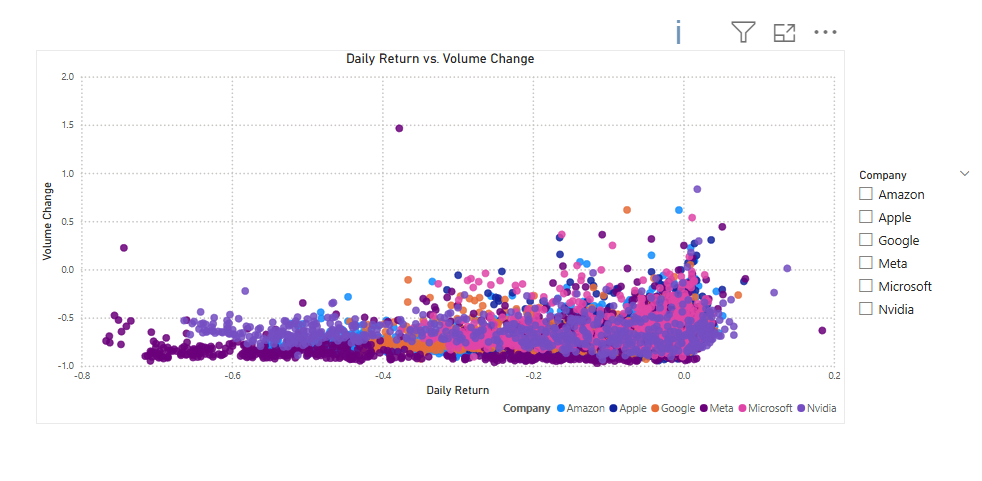

What the dashboard file says about the page in this screenshot:
{"tool":"powerbi","page":{"name":"DR vs VC","canvas":[1280,720],"ordinal":5},"visuals":[{"type":"scatterChart","title":"Daily Return vs. Volume Change","fields":{"X":["CompanyDailyReturnVolumeChange.DailyReturn"],"Y":["CompanyDailyReturnVolumeChange.VolumeChange"],"Series":["CompanyDailyReturnVolumeChange.Company"]},"box":[79.4,109.6,1018.6,470.6],"z":0},{"type":"slicer","fields":{"Values":["CompanyDailyReturnVolumeChange.Company"]},"box":[1103.6,253.2,164.4,209.8],"z":1000}]}

Visuals, with their boxes on the page's 1280x720 design canvas (x1, y1, x2, y2). These are canvas units, not pixel positions in the 982x481 screenshot, which may show the page scaled, cropped or inside an application window:
"Daily Return vs. Volume Change" scatterChart: bbox=(79, 110, 1098, 580)
slicer - CompanyDailyReturnVolumeChange.Company: bbox=(1104, 253, 1268, 463)
